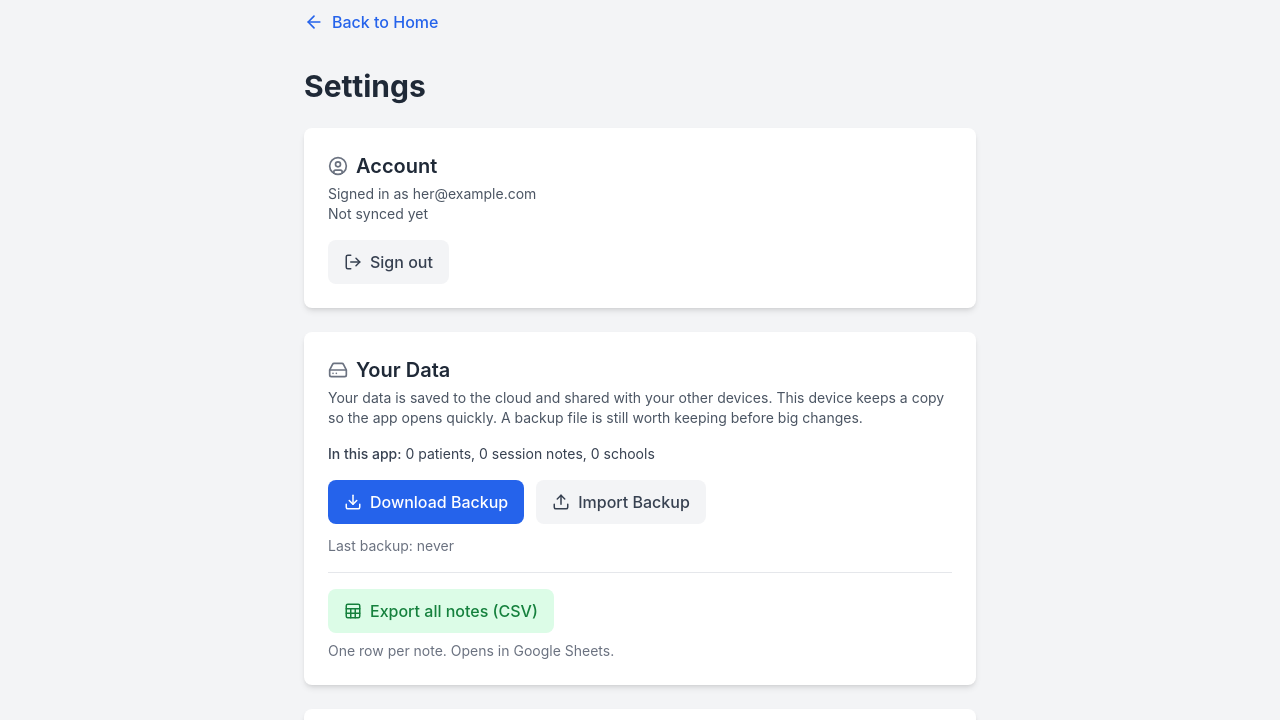
Test: asks before signing out when a note draft would be lost
Click the button "Sign out" at x=388, y=262, box [328,240,449,284]
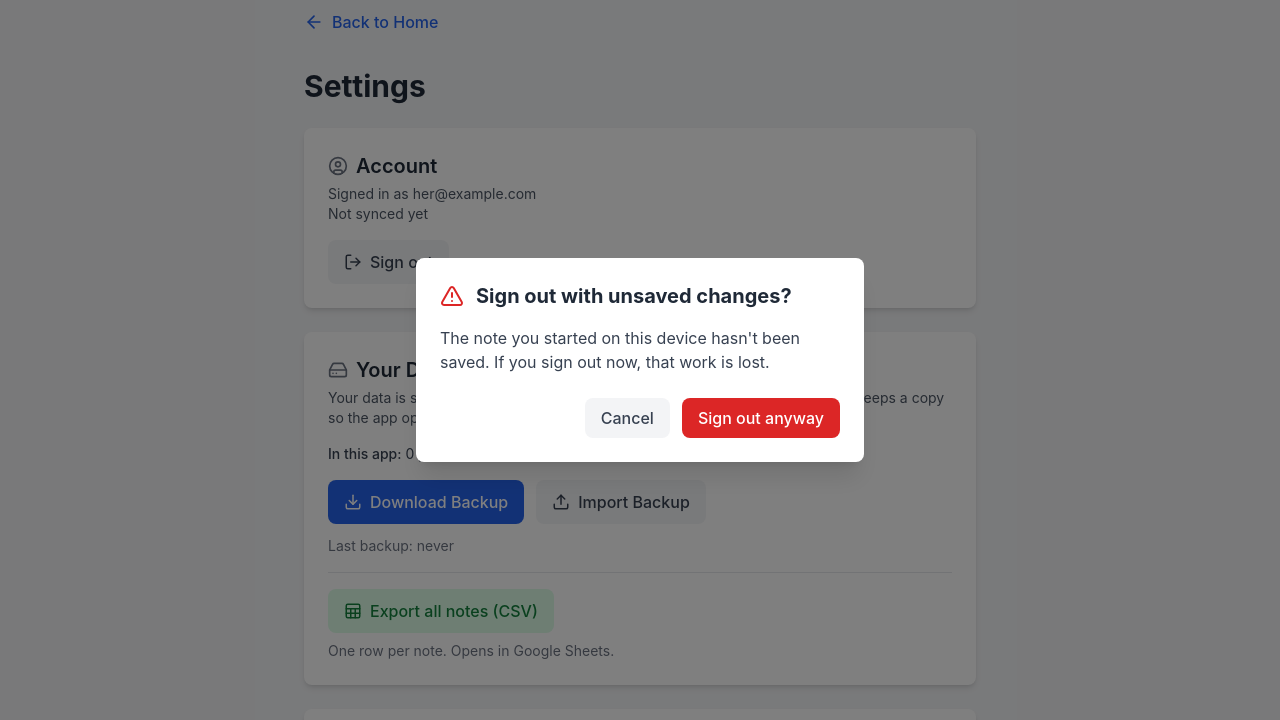
expect the text "The note you started on this device" is shown: met, box [440,328,800,372]
